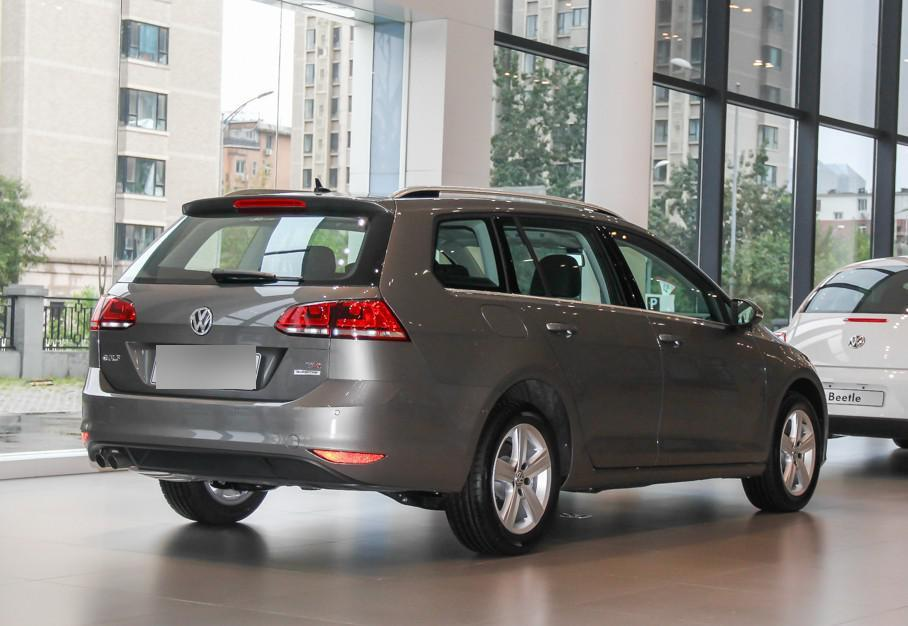Wagon: (80, 186, 829, 554)
